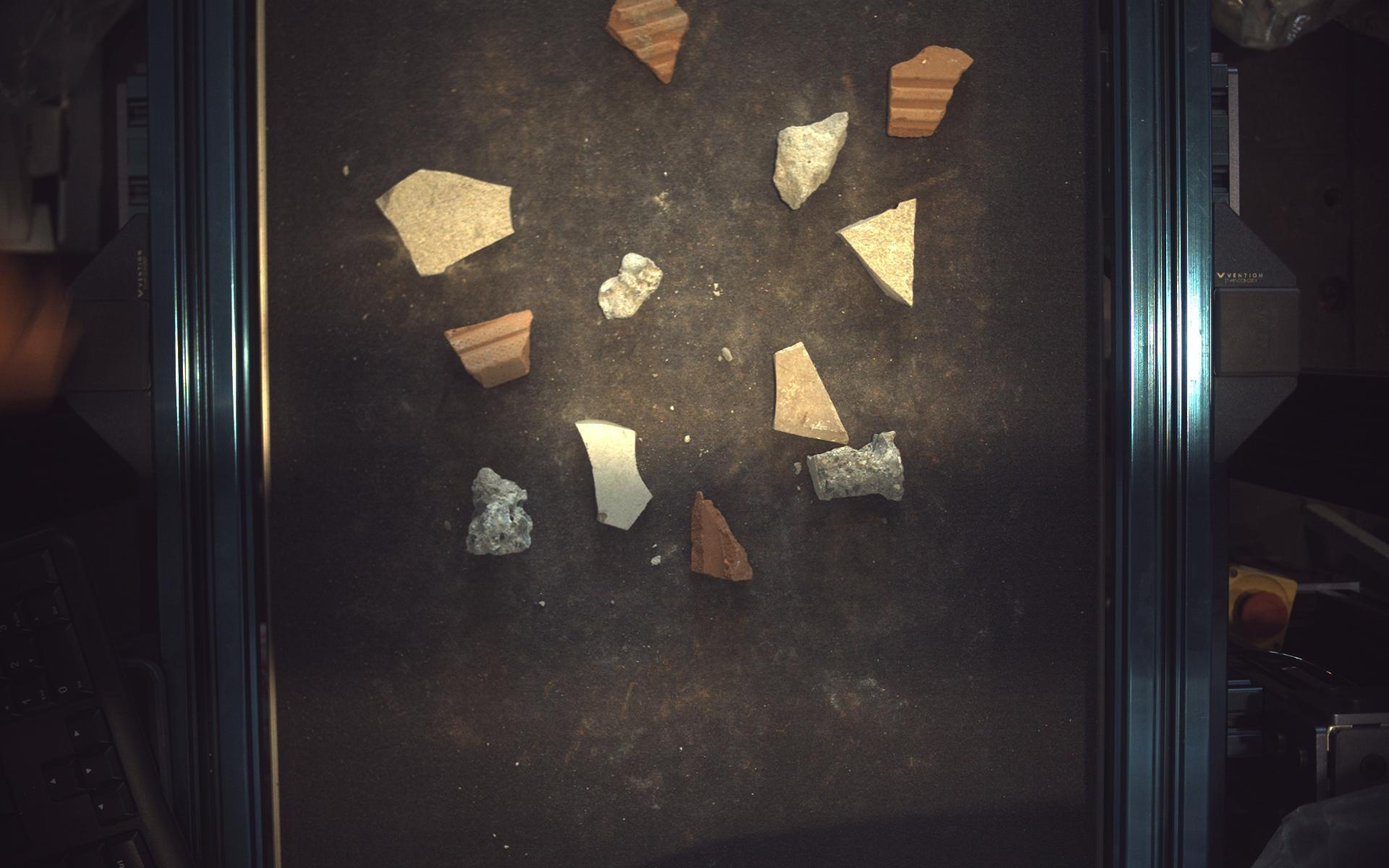brick: (889, 44, 975, 136), (445, 310, 533, 388), (607, 1, 689, 82), (692, 491, 754, 582)
concrete: (775, 111, 850, 209), (809, 431, 906, 501), (466, 467, 533, 556), (599, 252, 664, 319)
tile: (376, 169, 514, 275), (840, 197, 919, 305), (577, 420, 653, 530), (776, 341, 850, 445)
